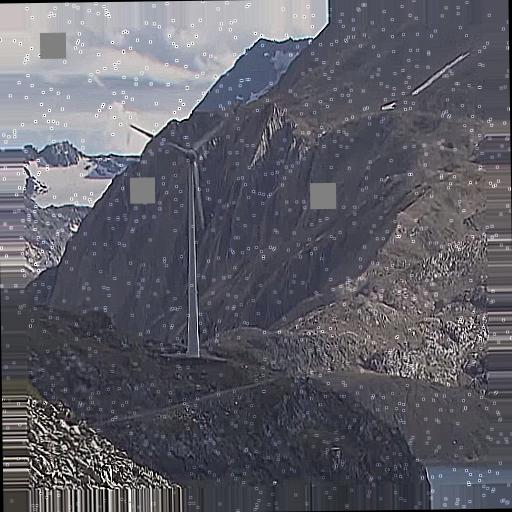wind turbine: (128, 116, 233, 358)
